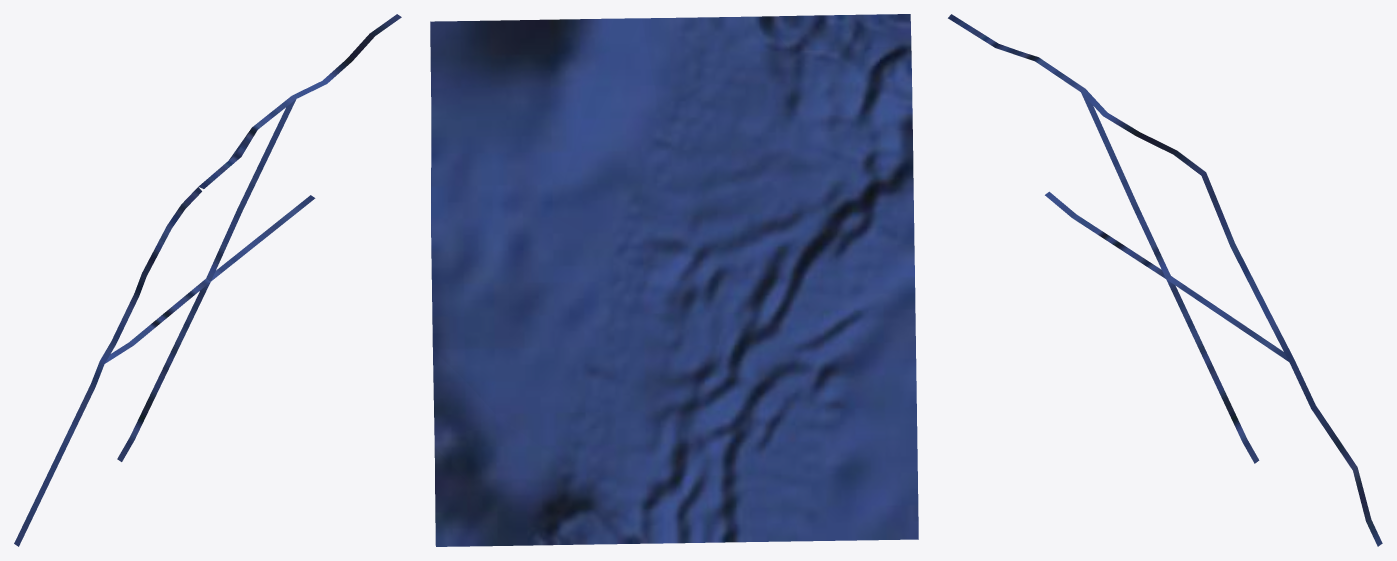
The picture shows the model from 3 angles, left to right: view 1: azimuth 30°, elevation 25°; view 2: azimuth 150°, elevation 25°; view 3: azimuth 270°, elevation 25°; orthographic projection. The views are drawn at different scales.
Size of the model in its own units: 19555 by 18070 by 16917.
1 material, 1 textured.
